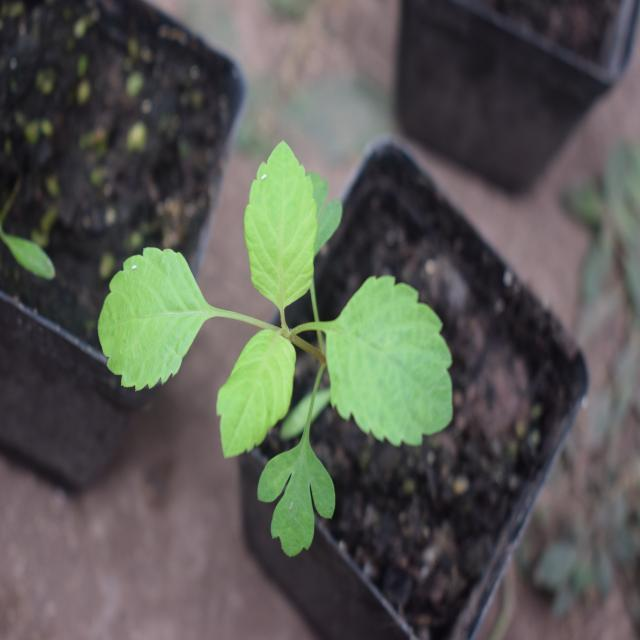Bidens pilosa: (89, 148, 458, 545)
